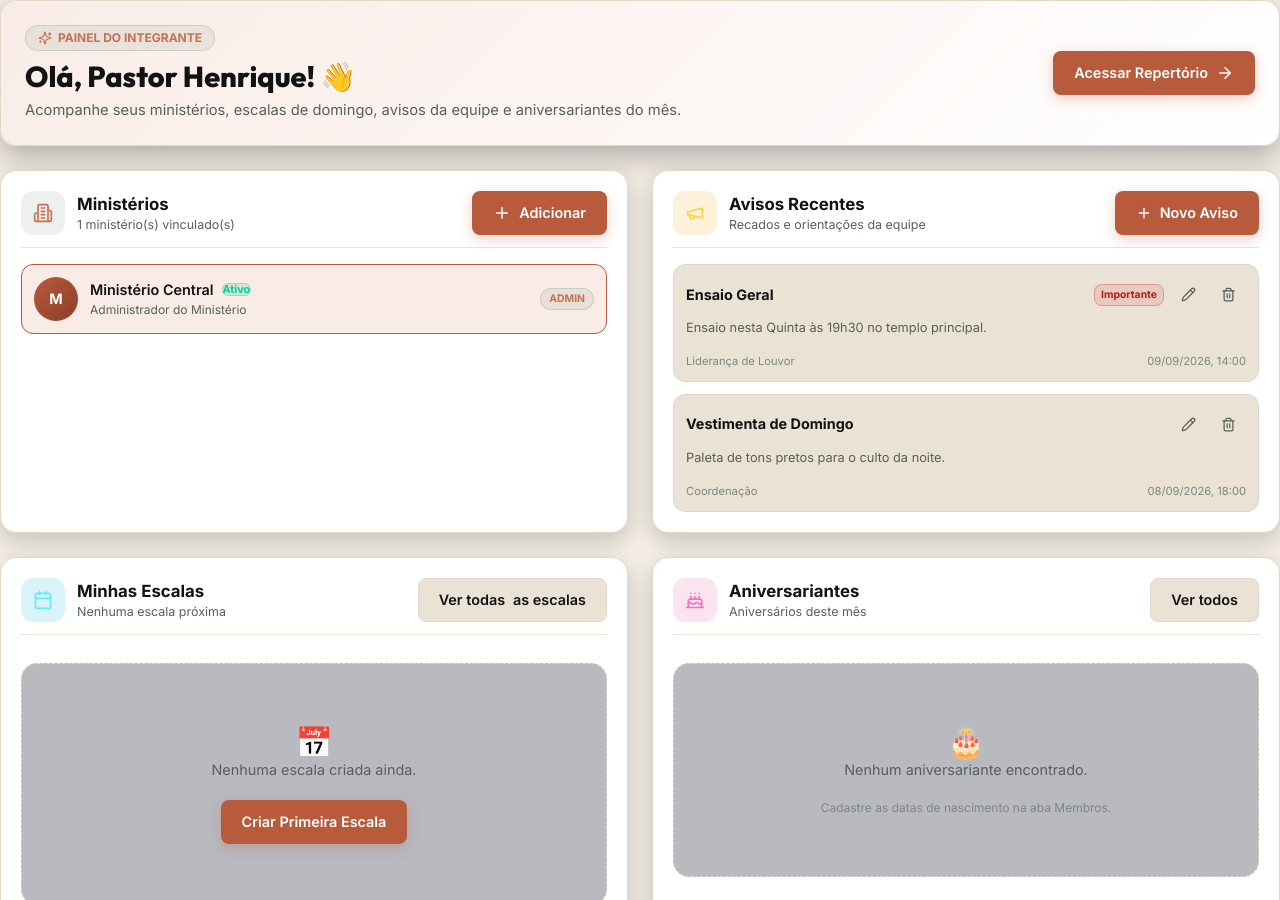
Test: DashboardView - Persisted Announcements › 6. Administrador pode criar novo aviso com sucesso via modal
Expected: the text "Ensaio Geral" is shown, [686, 286, 774, 303]
Click the button with aria-label "Criar novo aviso": point(1187, 213) [1115, 191, 1259, 235]
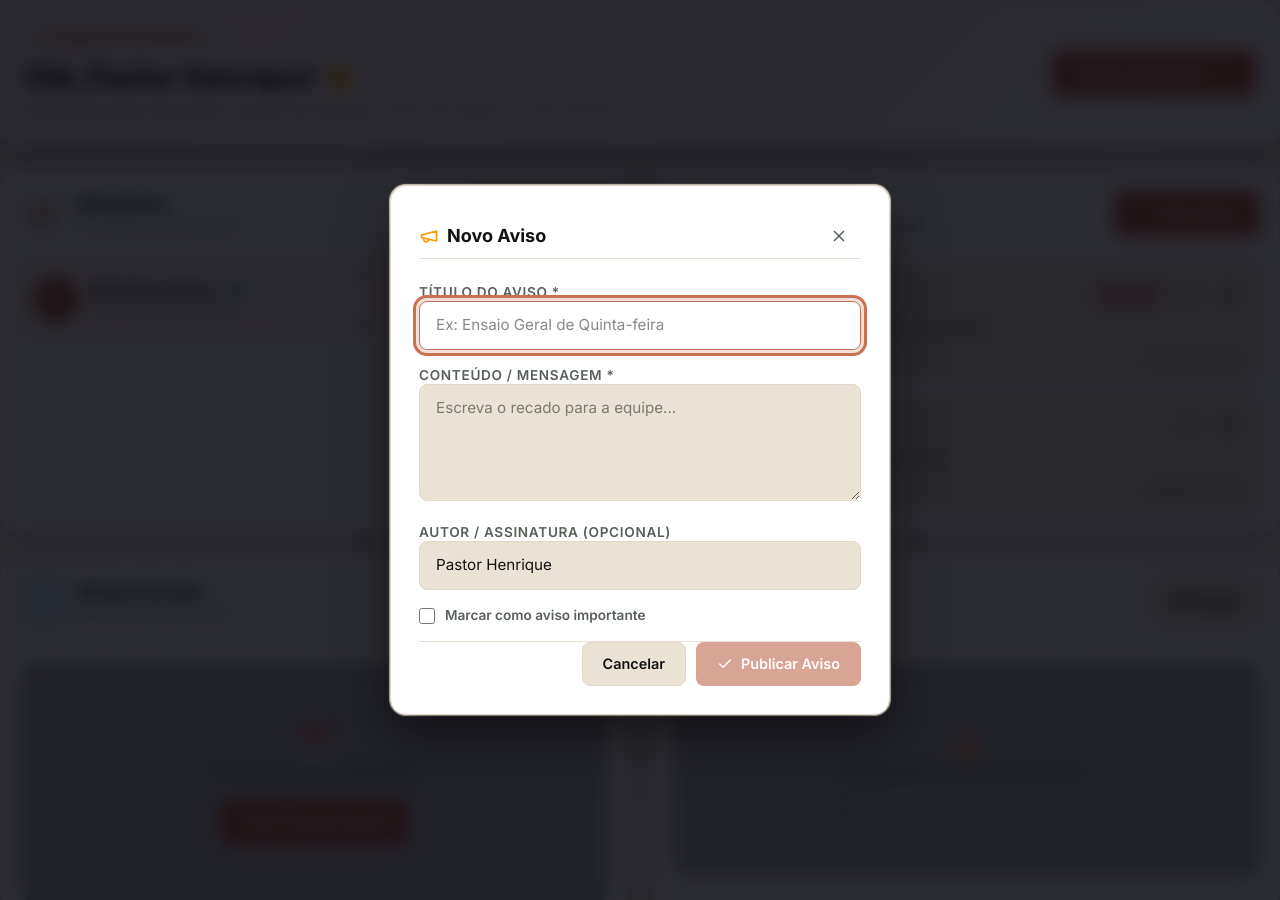
Result: the heading "Novo Aviso" is shown at [447, 222, 546, 250]
In the field with placeholder "Ex: Ensaio Geral de Quinta-feira": point(640, 325) [419, 301, 861, 350], type "Aviso Novo Culto"
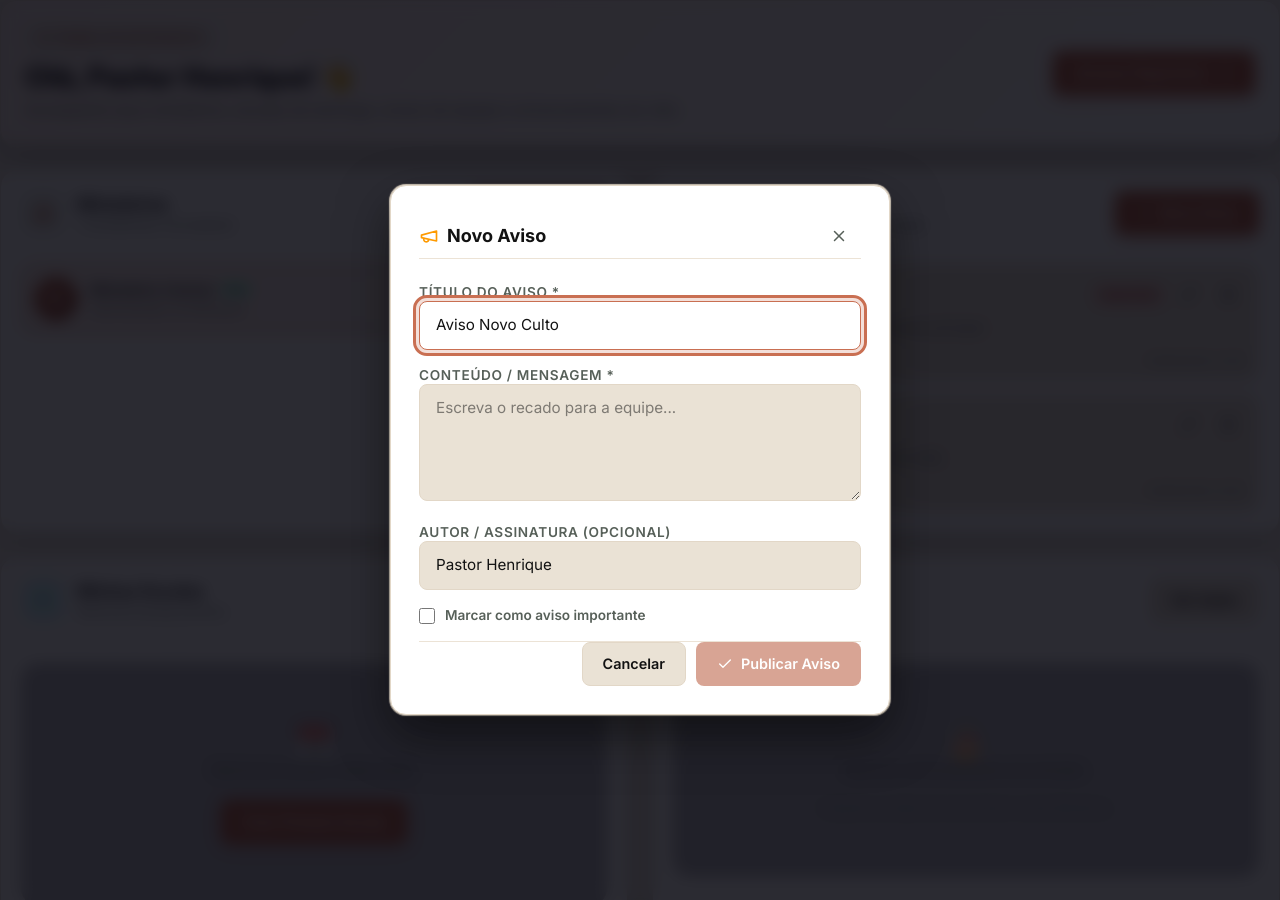
In the text box with placeholder "Escreva o recado para a equipe...": point(640, 442) [419, 384, 861, 501], type "Horário do culto antecipado para 18h."
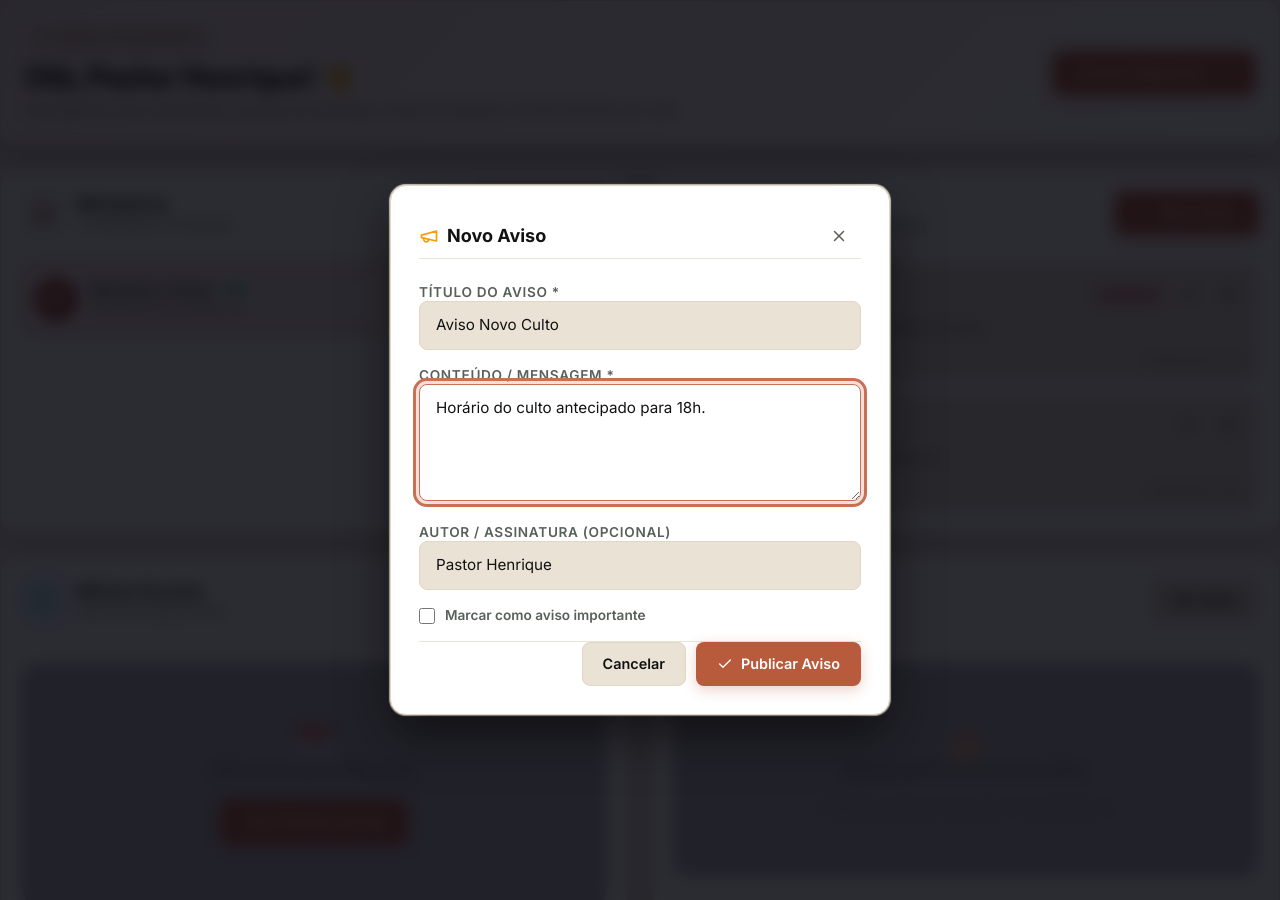
Click the checkbox labelled "Marcar como aviso importante": point(427, 616) [419, 608, 435, 624]
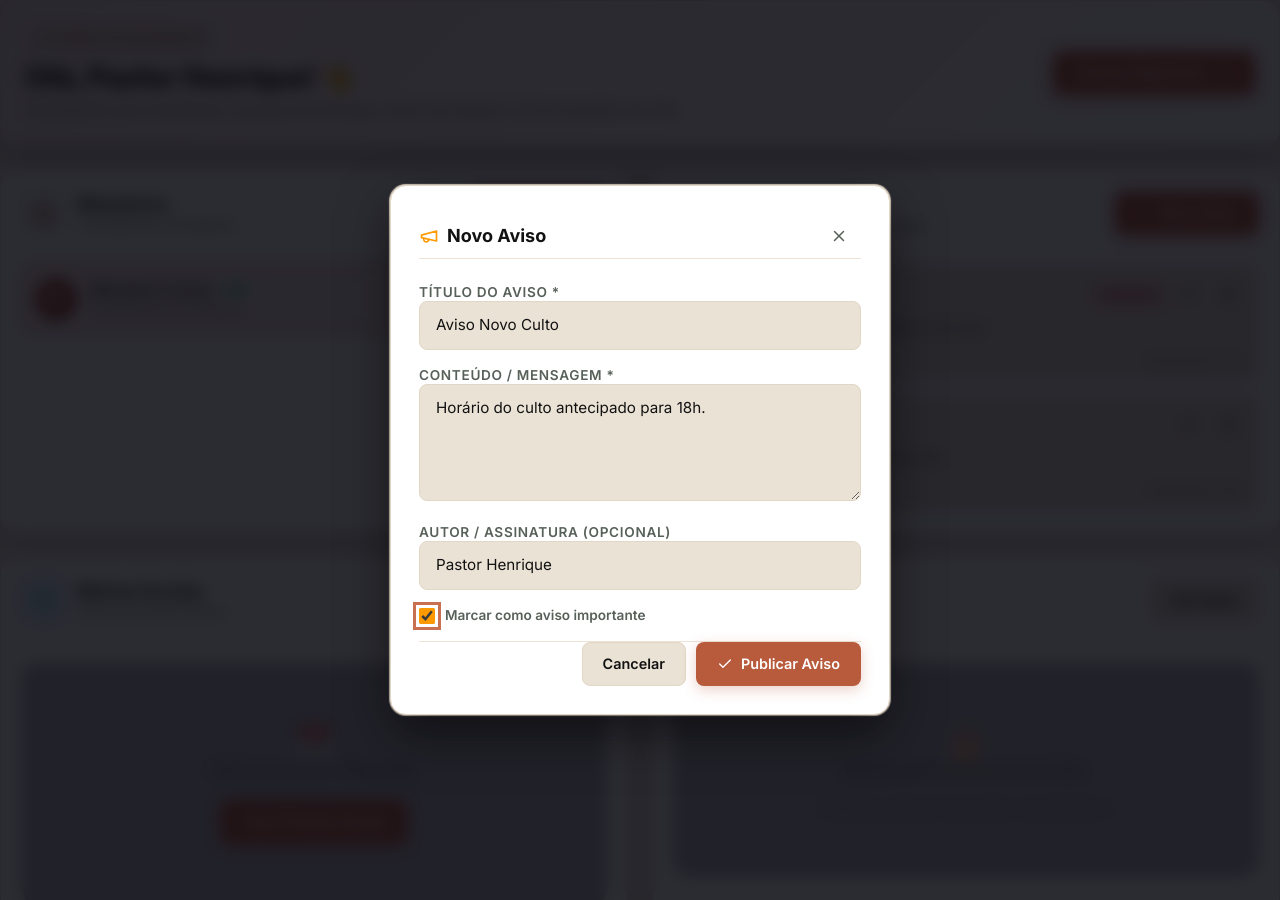
Click the button "Publicar Aviso": point(778, 664) [696, 642, 861, 686]
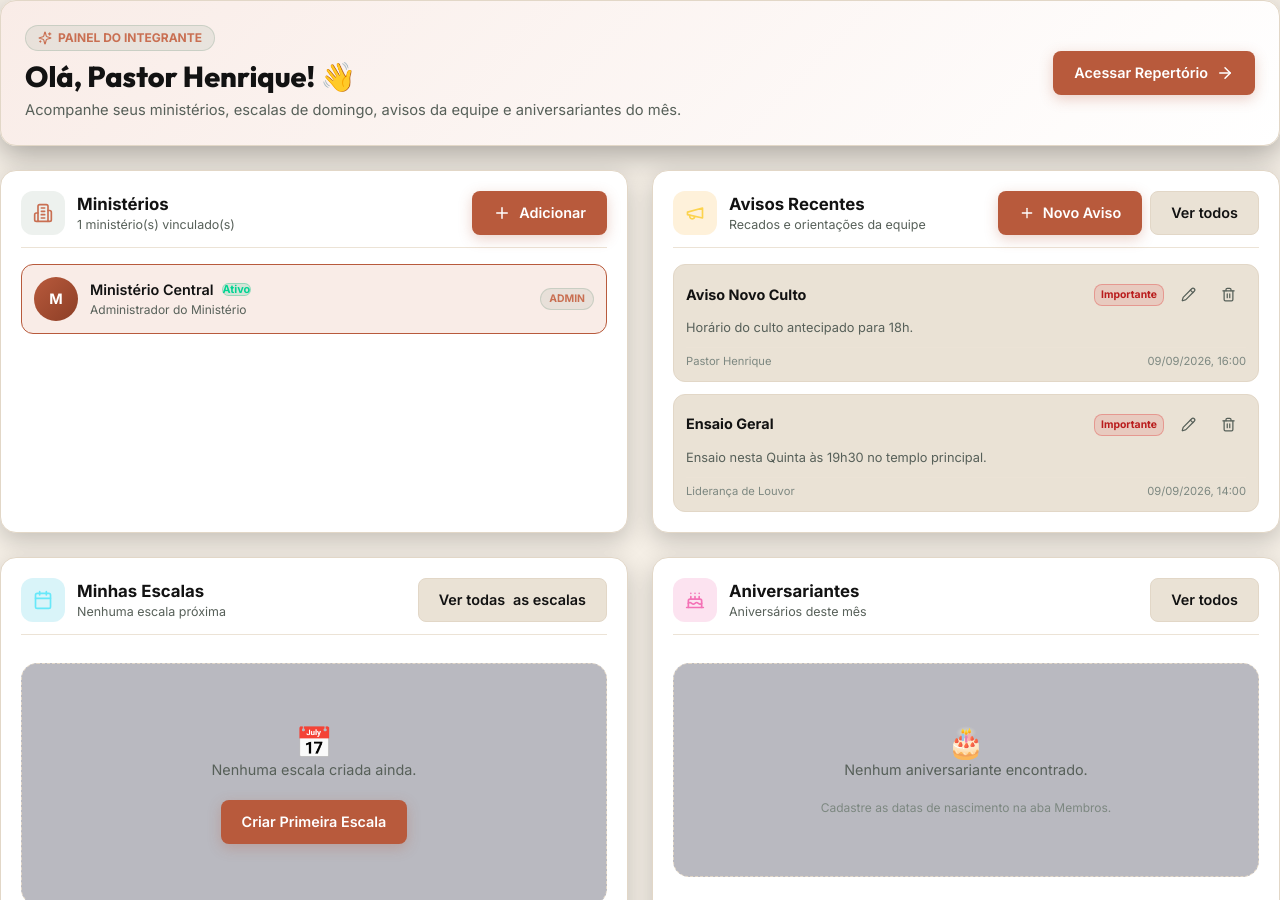
Result: the text "Aviso Novo Culto" is shown at [686, 286, 806, 303]
